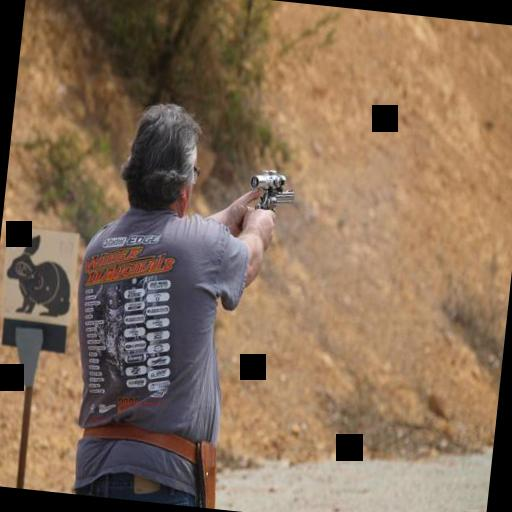Handgun: (246, 160, 298, 218)
